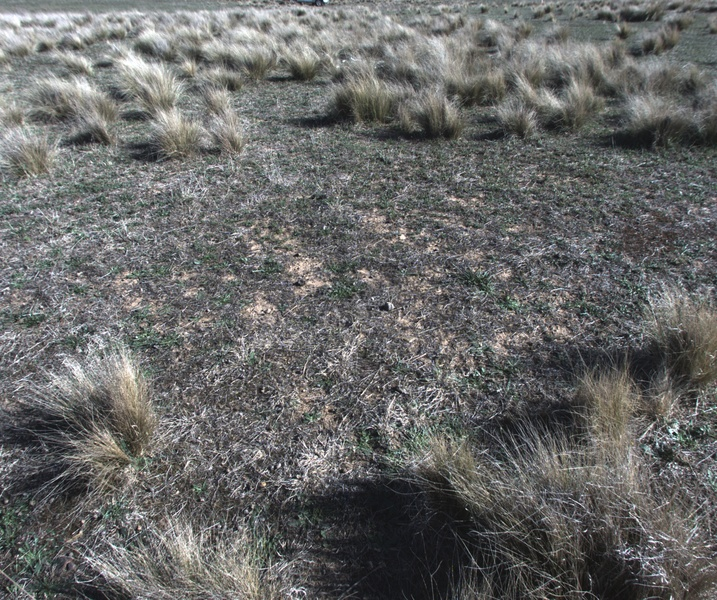st: (397, 396, 650, 600), (42, 353, 169, 515), (76, 527, 298, 600), (648, 310, 717, 419), (580, 373, 641, 457), (619, 99, 696, 155), (513, 82, 600, 131), (336, 75, 398, 122), (5, 128, 56, 179), (136, 66, 183, 120), (411, 91, 459, 143), (196, 80, 236, 129), (154, 110, 190, 161), (207, 118, 246, 164), (491, 100, 534, 140), (229, 46, 272, 86), (281, 44, 323, 82), (83, 108, 110, 148), (610, 15, 634, 38)
